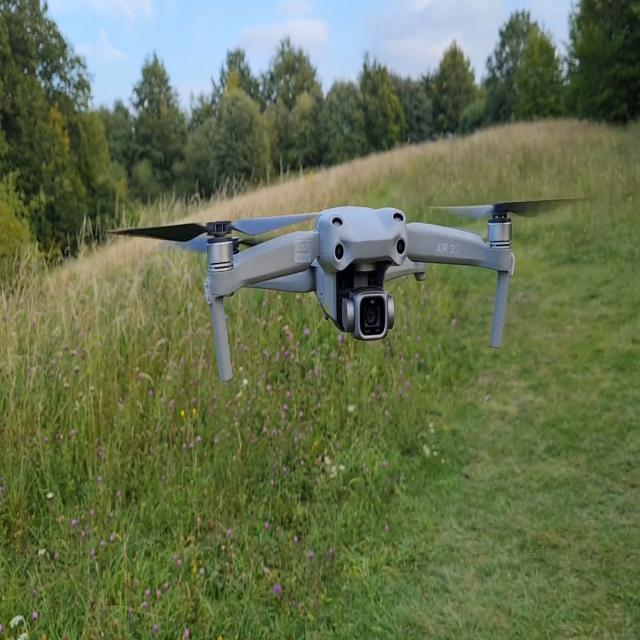drone: (103, 194, 593, 383)
